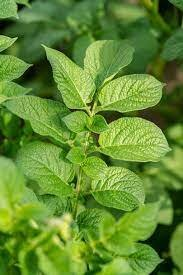potato_leaf: (42, 43, 95, 110), (13, 143, 77, 196), (101, 115, 170, 164), (90, 166, 148, 212), (98, 73, 167, 109), (61, 109, 93, 133)
